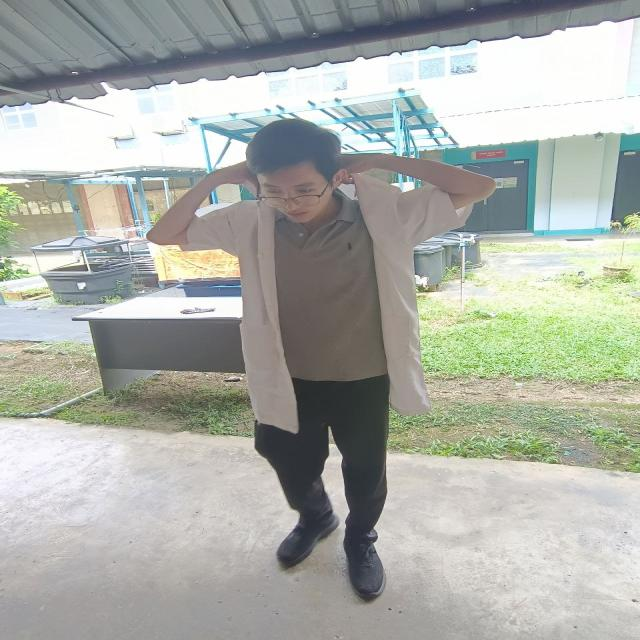person_without_labcoat: (149, 120, 493, 598)
